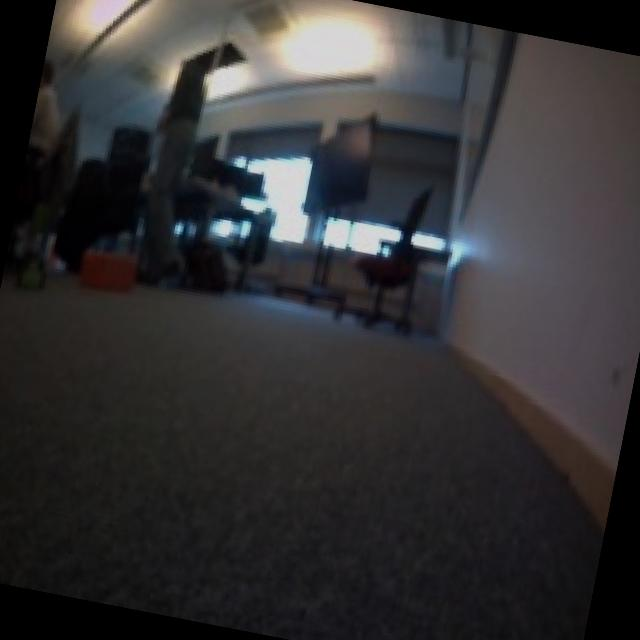robot: (8, 247, 58, 297)
target: (74, 239, 142, 295)
